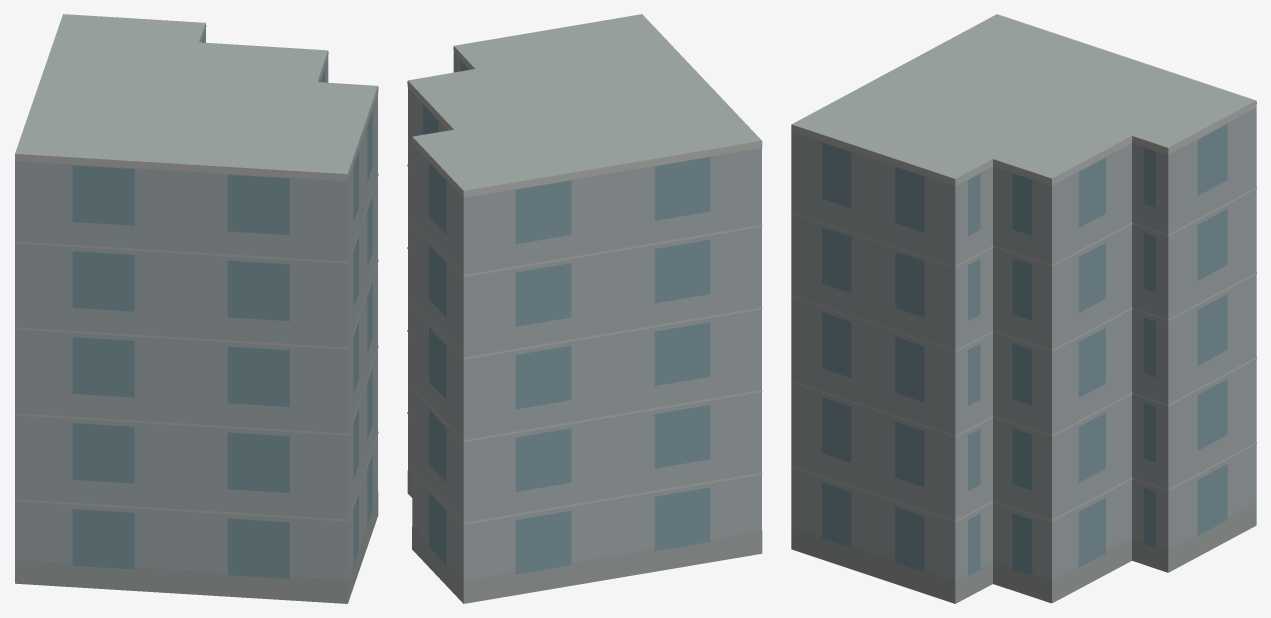
File: survey-upis-32969507.glb
The picture shows the model from 3 angles, left to right: view 1: azimuth 30°, elevation 25°; view 2: azimuth 150°, elevation 25°; view 3: azimuth 270°, elevation 25°; orthographic projection. The views are drawn at different scales.
Visible parts, largest first — view 1: survey-upis-32969507.tmp; view 2: survey-upis-32969507.tmp; view 3: survey-upis-32969507.tmp.
Boxes of the visible parts, x1,y1,x2,y2 form: survey-upis-32969507.tmp: [15, 14, 378, 603]; survey-upis-32969507.tmp: [407, 14, 762, 603]; survey-upis-32969507.tmp: [791, 14, 1256, 603].
Bounding box in the file's own units: 12.18 × 14.6 × 14.51.
